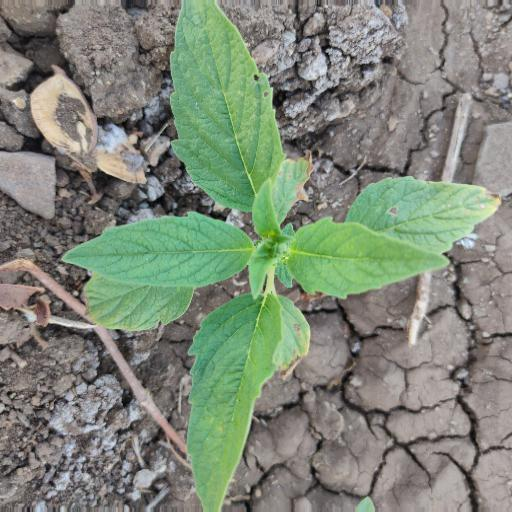crop: (42, 1, 504, 512)
